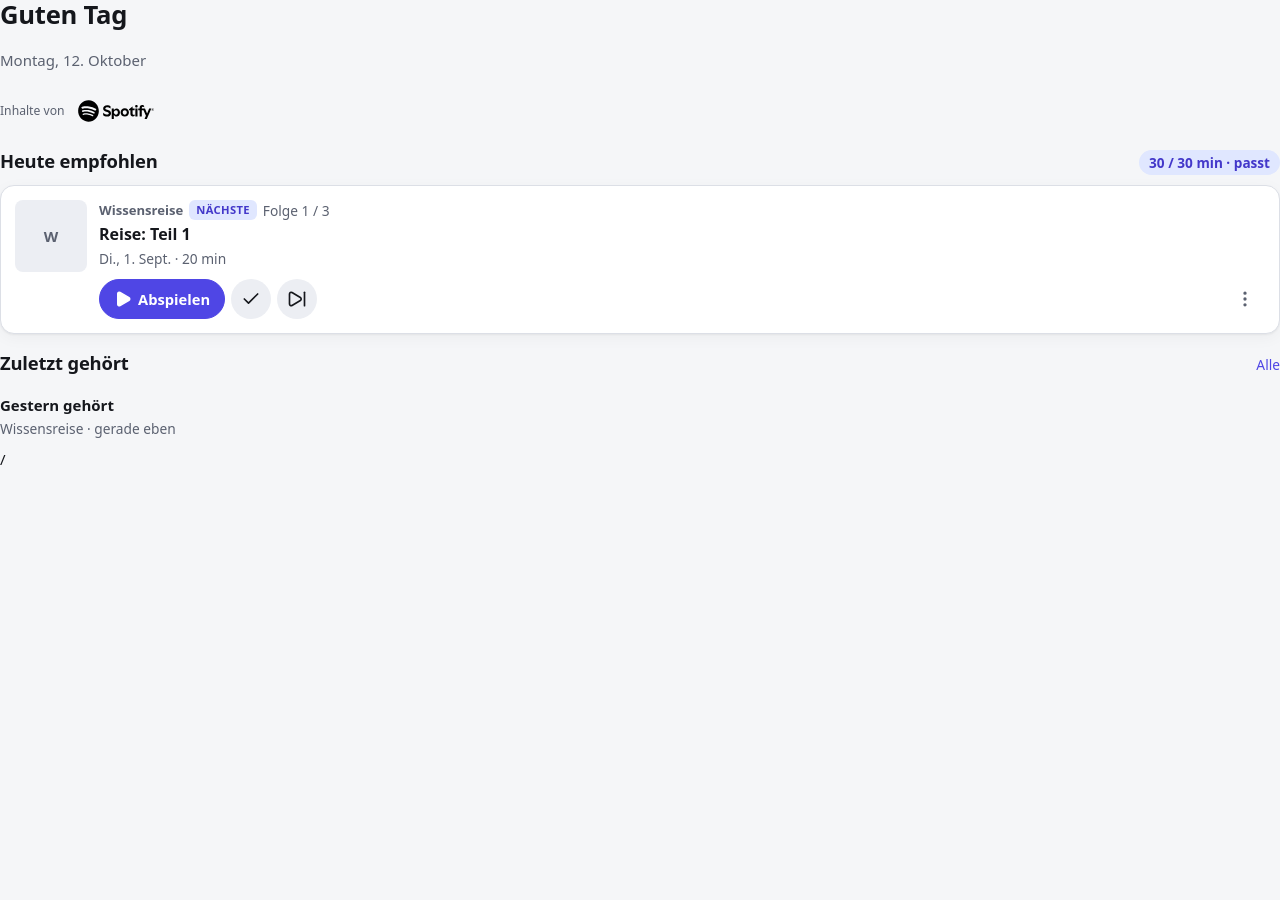
Test: TodayPage › opens the episode sheet from the recently heard list
Check: the text "Wissensreise · gerade eben" is shown, box top-left (0, 419), bottom-right (176, 438)
Click the button "Gestern gehört".
click(57, 405)  # box top-left (0, 395), bottom-right (1279, 417)
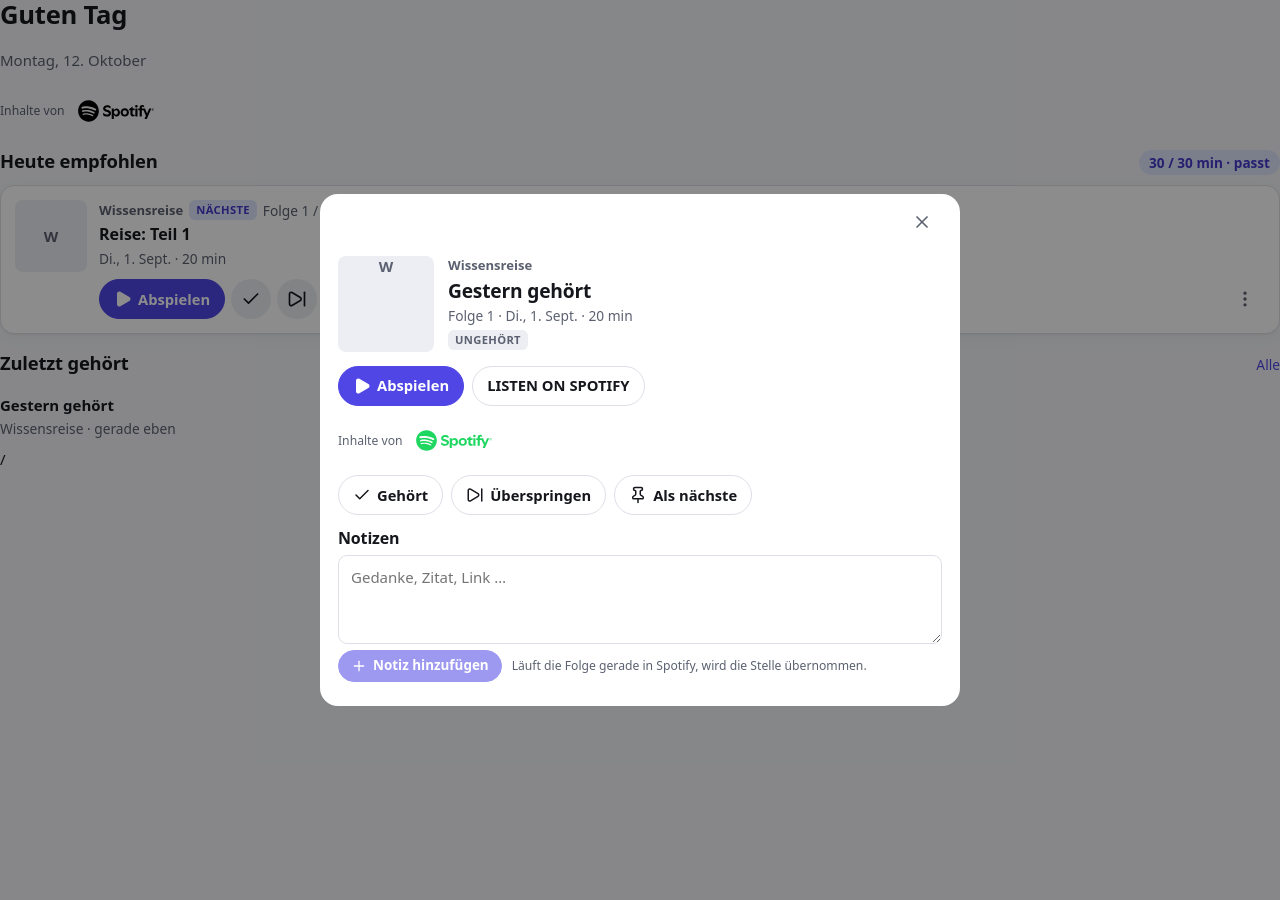
Check: the heading "Gestern gehört" is shown, box top-left (448, 277), bottom-right (591, 304)
